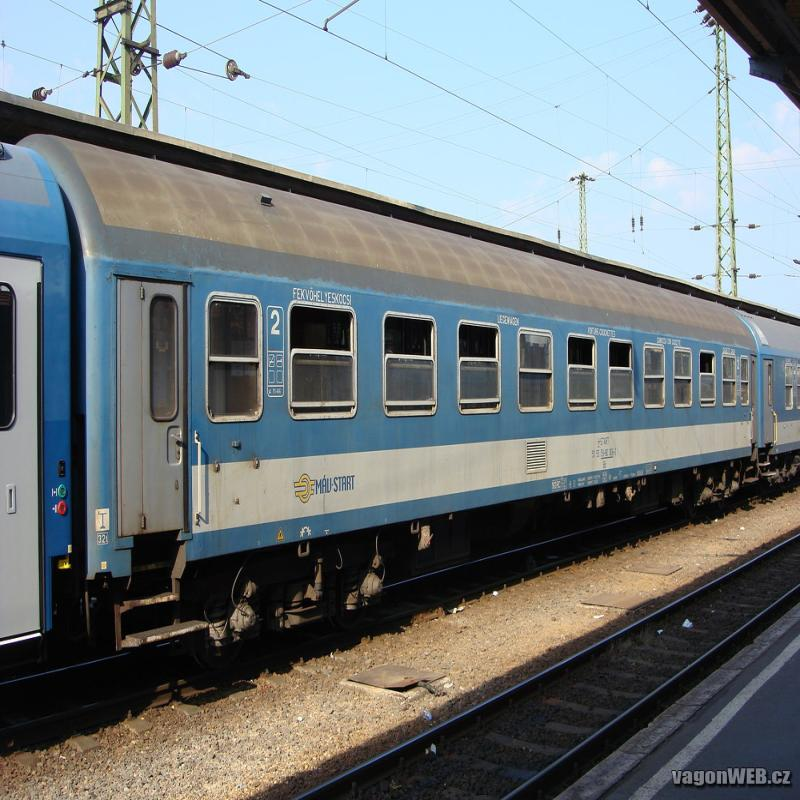train: (22, 135, 761, 704)
